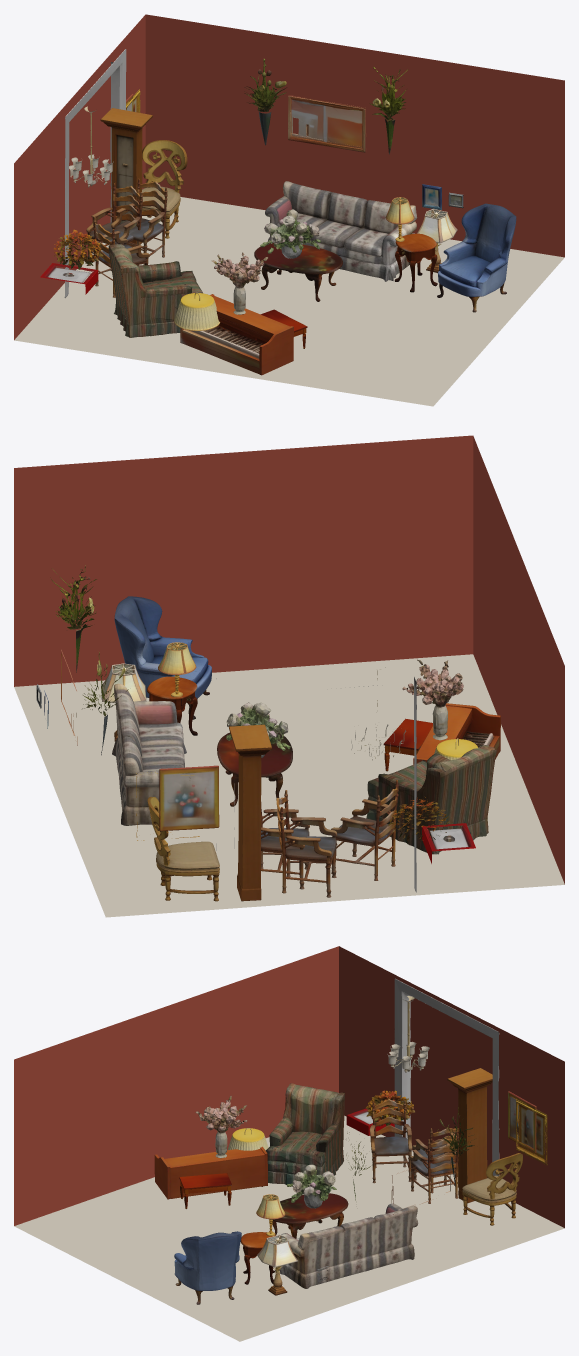
The model's file is coco-578500.glb.
3 views of the same model, one above another, from view 1: azimuth 30°, elevation 25°; view 2: azimuth 150°, elevation 25°; view 3: azimuth 270°, elevation 25° (orthographic). The views are drawn at different scales.
Parts seen in each view (by area): view 1: Wall_02, Floor, Wall_03, world.002, world.011, world.012, world.026, world.027, world.021, world.003, world.022, world.009 (+9 smaller); view 2: Wall_01, Floor, Wall_04, world.011, world.002, world.027, world.012, world.001, world.021, Wall_03, world.023, world.025 (+11 smaller); view 3: Wall_04, Floor, Wall_03, world.002, world.011, world.026, world.027, world.012, world.021, world.025, world.022, world.003 (+11 smaller).
Boxes of the visible parts, box(x1,y1,x2,y2) form: Wall_02: box(145, 14, 564, 257); Floor: box(14, 197, 564, 406); Wall_03: box(14, 15, 145, 339); world.002: box(265, 181, 417, 281); world.011: box(108, 244, 202, 337); world.012: box(437, 203, 516, 312); world.026: box(180, 294, 293, 375); world.027: box(100, 108, 152, 246); world.021: box(142, 140, 187, 238); world.003: box(254, 243, 342, 301); world.022: box(111, 178, 167, 265); world.009: box(260, 209, 320, 258); Wall_01: box(14, 435, 473, 686); Floor: box(14, 654, 564, 917); Wall_04: box(473, 436, 564, 884); world.011: box(366, 745, 496, 854); world.002: box(112, 683, 186, 825); world.027: box(229, 724, 271, 901); world.012: box(114, 596, 211, 719); world.001: box(159, 765, 219, 831); world.021: box(147, 796, 219, 901); Wall_03: box(136, 677, 475, 892); world.023: box(276, 790, 337, 897); world.025: box(331, 780, 398, 880); Wall_04: box(14, 946, 338, 1225); Floor: box(14, 1115, 564, 1341); Wall_03: box(339, 946, 564, 1228); world.002: box(275, 1203, 418, 1288); world.011: box(265, 1083, 344, 1184); world.026: box(154, 1146, 267, 1199); world.027: box(447, 1068, 492, 1202); world.012: box(174, 1231, 241, 1304); world.021: box(462, 1153, 522, 1225); world.025: box(369, 1099, 412, 1183); world.022: box(409, 1133, 459, 1203); world.003: box(272, 1193, 348, 1238).
Size of the model in its own units: 11.11 by 3.92 by 11.29.
34 materials, 28 textured.
